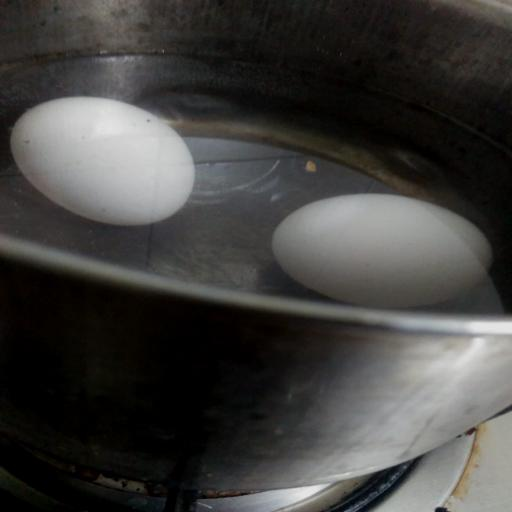telur: (272, 194, 492, 308), (11, 97, 195, 226)
